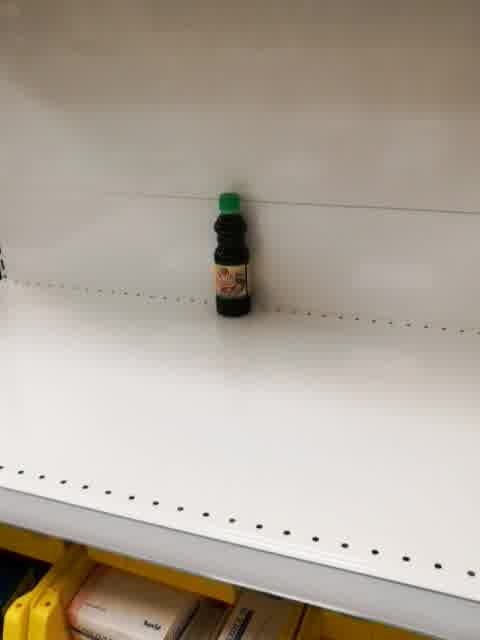cookingoil: (212, 191, 254, 320)
